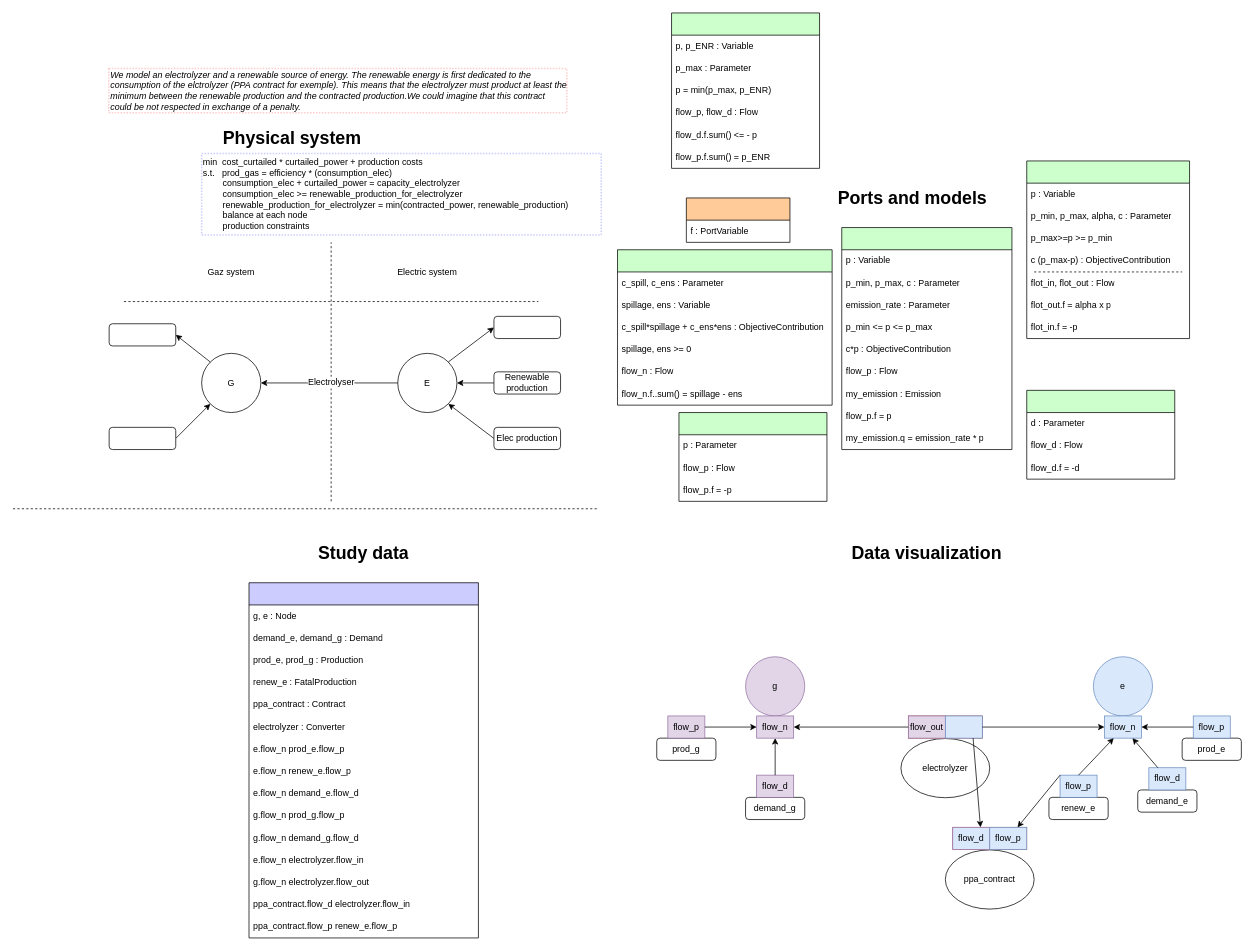
The diagram is 1254 pixels wide and 951 high, and some of its shapes have lost their labels. The shapes that lost their labels are listed below. From the top down, each one's box as (x1, y1, x2, y2) in pixels, then its label:
(671, 12, 820, 168): Contract : Model
(686, 197, 790, 242): Flow : PortType
(1026, 160, 1190, 339): Converter : Model
(108, 323, 176, 346): Gaz demand
(493, 316, 561, 339): Elec demand
(617, 249, 832, 405): Node : Model
(841, 227, 1012, 450): Production : Model
(108, 427, 176, 450): Gaz production
(1026, 390, 1175, 479): Demand : Model
(678, 412, 827, 501): FatalProduction : Model
(945, 715, 982, 738): flow_in
(248, 582, 478, 938): File "network.txt"
